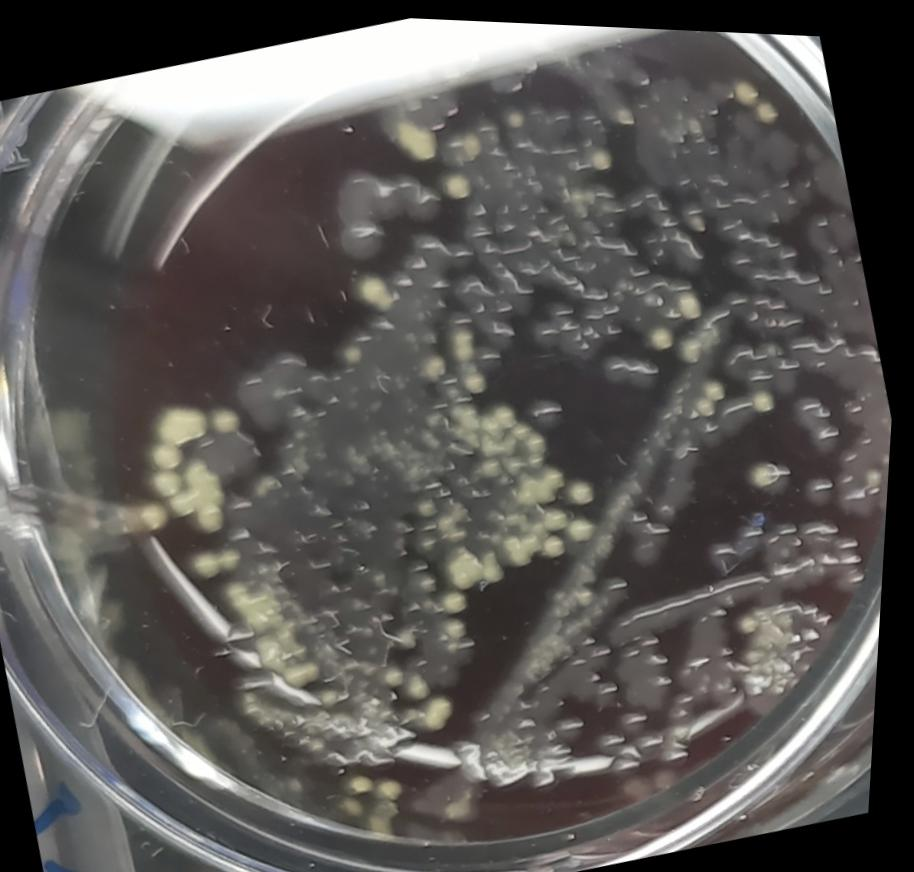asalmonicida: (618, 556, 781, 636), (789, 307, 896, 410), (768, 498, 880, 596), (710, 200, 807, 290), (321, 161, 396, 263), (386, 223, 466, 316), (457, 259, 527, 349), (649, 432, 721, 519), (524, 289, 602, 368), (617, 627, 690, 710), (724, 266, 805, 337), (378, 163, 453, 229), (232, 356, 296, 433), (623, 494, 684, 567), (701, 512, 775, 572), (791, 377, 852, 449), (601, 338, 667, 394), (416, 80, 469, 132), (756, 115, 805, 167), (531, 384, 572, 427), (805, 460, 843, 502)
